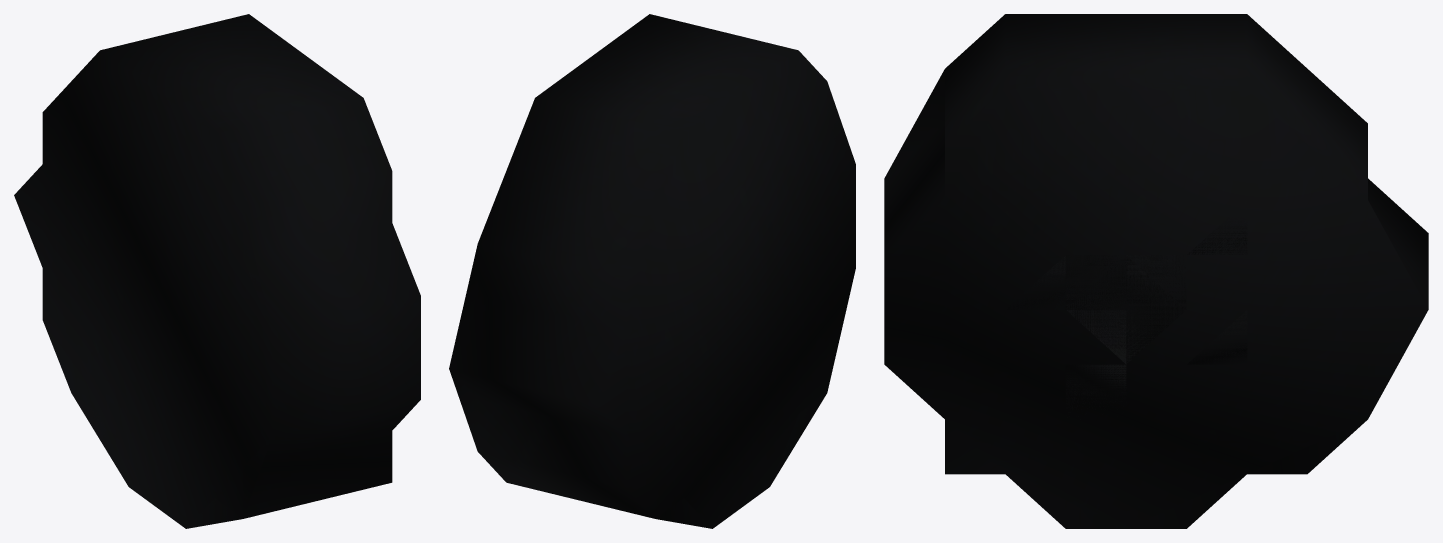
3 renders of one model, left to right at view 1: azimuth 30°, elevation 25°; view 2: azimuth 150°, elevation 25°; view 3: azimuth 270°, elevation 25°, orthographic. The views are drawn at different scales.
Bounding box in the file's own units: 0.24 × 0.64 × 0.72.
Materials: 1 (1 with a texture image).
